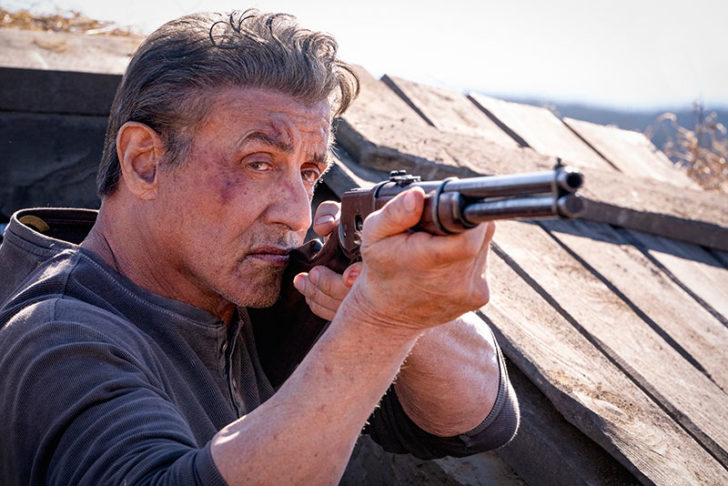gun: (278, 156, 589, 307)
